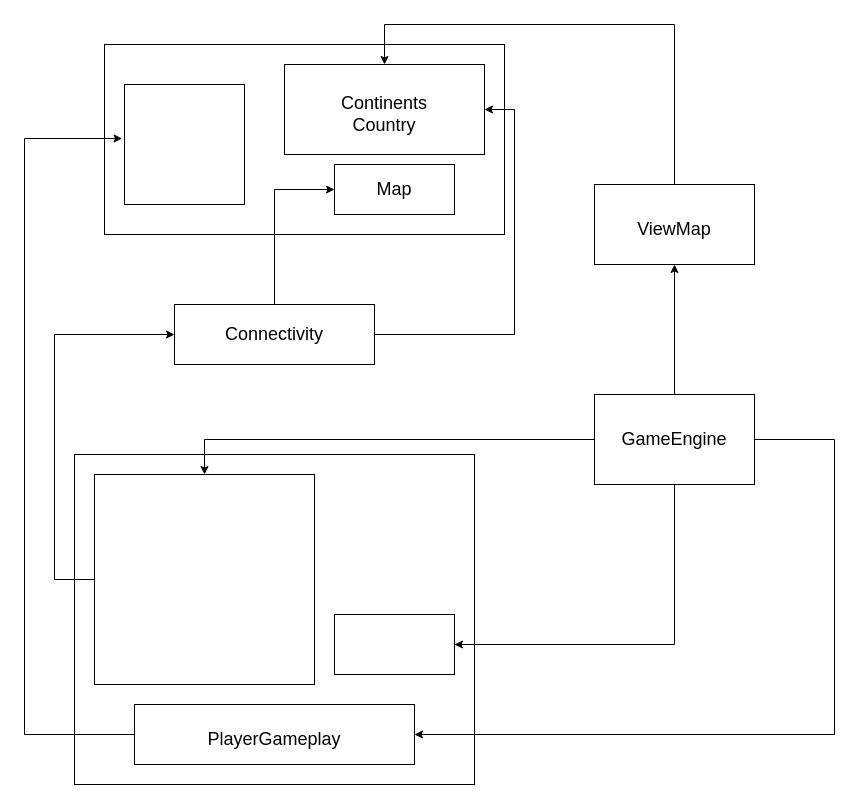
The diagram is 860 pixels wide and 802 high, and some of its shapes have lost their labels. The shapes that lost their labels are listed below. From the top down, each one's centre as x and y in pixels, then its label:
point (184, 144): Player Order
point (204, 579): MapChecker MapCreator MapEditor MapLoader Save Map
point (394, 644): ColorCoding
